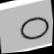no answer: (18, 13, 52, 45)
